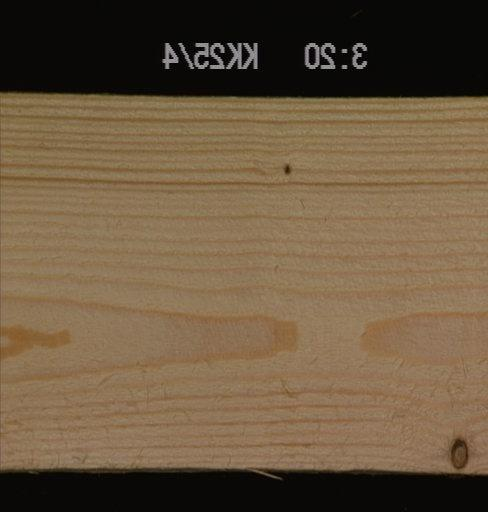small_knot: (282, 159, 293, 175)
